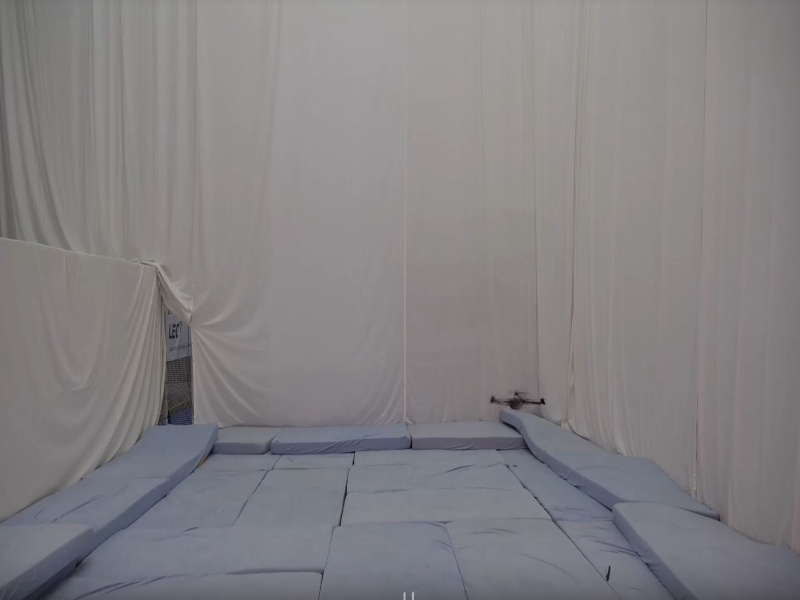drone: (487, 387, 549, 414)
